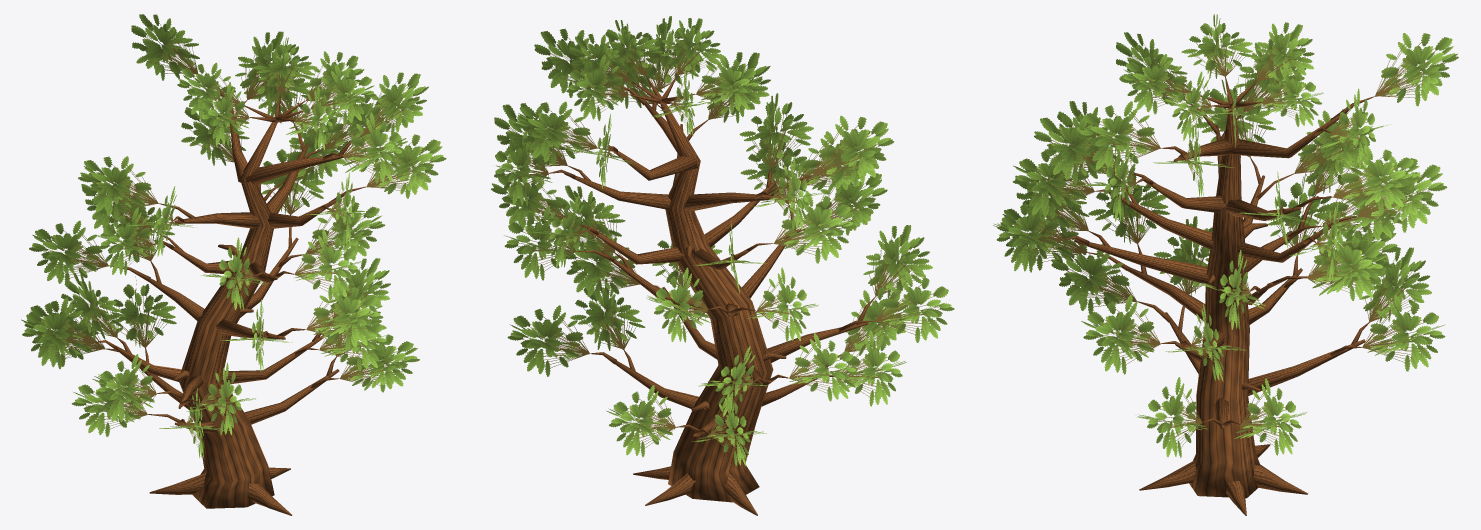
Rendered from AncientOak_LOD2.glb.
3 renders of one model, left to right at view 1: azimuth 30°, elevation 25°; view 2: azimuth 150°, elevation 25°; view 3: azimuth 270°, elevation 25°, orthographic. The views are drawn at different scales.
Visible parts, largest first — view 1: SM_AncientOak_Foliage_LOD2, SM_AncientOak_Bark_LOD2; view 2: SM_AncientOak_Foliage_LOD2, SM_AncientOak_Bark_LOD2; view 3: SM_AncientOak_Foliage_LOD2, SM_AncientOak_Bark_LOD2.
Part boxes in pixels (x1,y1,x2,y2): SM_AncientOak_Foliage_LOD2: (21,14,446,458); SM_AncientOak_Bark_LOD2: (94,88,365,515); SM_AncientOak_Foliage_LOD2: (491,16,954,465); SM_AncientOak_Bark_LOD2: (549,75,875,515); SM_AncientOak_Foliage_LOD2: (993,14,1458,457); SM_AncientOak_Bark_LOD2: (1063,76,1374,515).
Size of the model in its own units: 7.89 by 8.3 by 7.7.
Materials: 2 (2 with a texture image).
